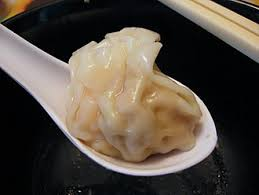Pangsit: (61, 27, 207, 162)
